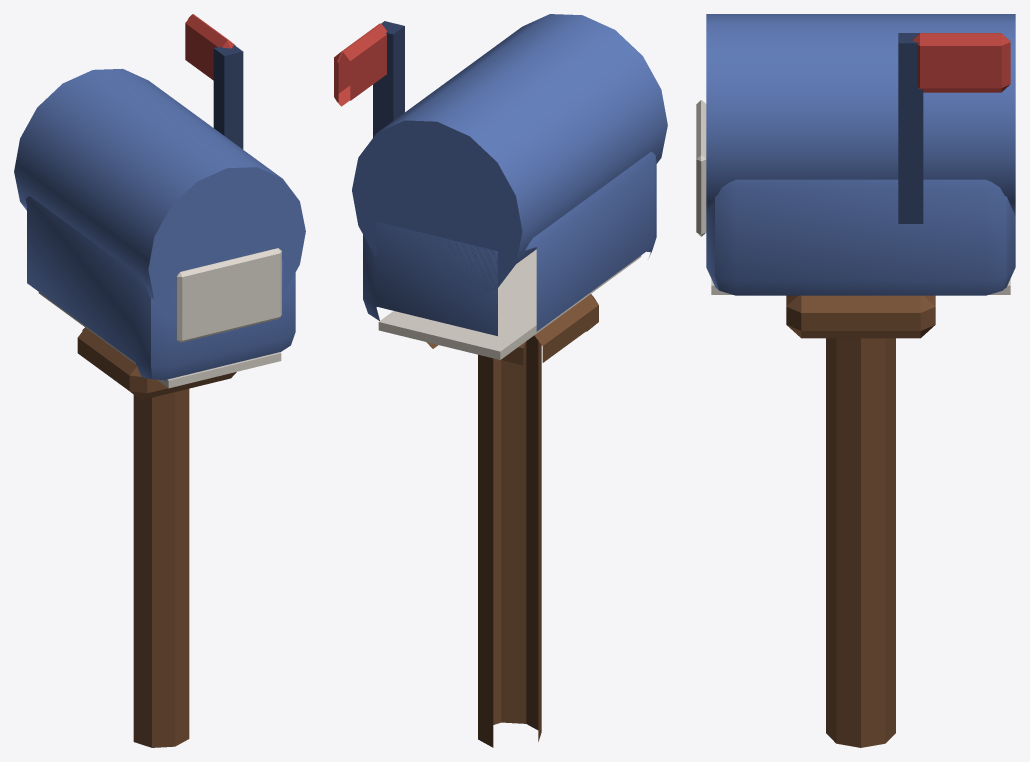
Rendered from ac_mailbox.glb.
The picture shows the model from 3 angles, left to right: view 1: azimuth 30°, elevation 25°; view 2: azimuth 150°, elevation 25°; view 3: azimuth 270°, elevation 25°; orthographic projection. The views are drawn at different scales.
Visible parts, largest first — view 1: cyl; view 2: cyl; view 3: cyl.
Boxes of the visible parts, x1,y1,x2,y2 form: cyl: (14, 14, 305, 747); cyl: (334, 14, 667, 747); cyl: (696, 14, 1015, 747).
Bounding box in the file's own units: 0.4799 × 1.66 × 0.6399.
